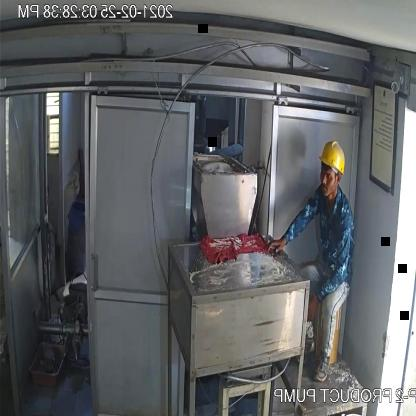helmet: (316, 135, 349, 188)
